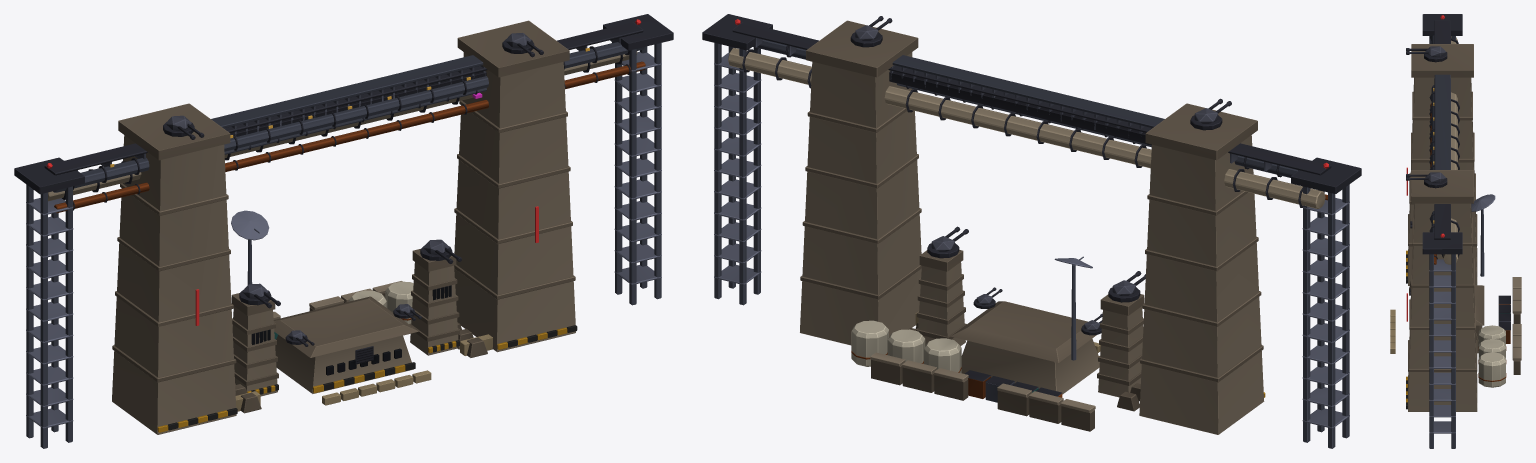
File: world.glb
The picture shows the model from 3 angles, left to right: view 1: azimuth 30°, elevation 25°; view 2: azimuth 150°, elevation 25°; view 3: azimuth 270°, elevation 25°; orthographic projection. The views are drawn at different scales.
Parts seen in each view (by area): view 1: prop_gate_body, prop_gantry_body, prop_outpost_body; view 2: prop_gate_body, prop_gantry_body, prop_outpost_body; view 3: prop_gate_body, prop_gantry_body, prop_outpost_body.
Part boxes in pixels (left/top/right/bottom): prop_gate_body: left=112, top=20, right=577, bottom=434; prop_gantry_body: left=14, top=14, right=673, bottom=448; prop_outpost_body: left=231, top=210, right=461, bottom=405; prop_gate_body: left=800, top=16, right=1265, bottom=434; prop_gantry_body: left=702, top=14, right=1361, bottom=448; prop_outpost_body: left=851, top=226, right=1145, bottom=431; prop_gate_body: left=1406, top=44, right=1477, bottom=411; prop_gantry_body: left=1422, top=14, right=1462, bottom=448; prop_outpost_body: left=1390, top=194, right=1521, bottom=387.
Size of the model in its own units: 112 by 51.21 by 26.45.
